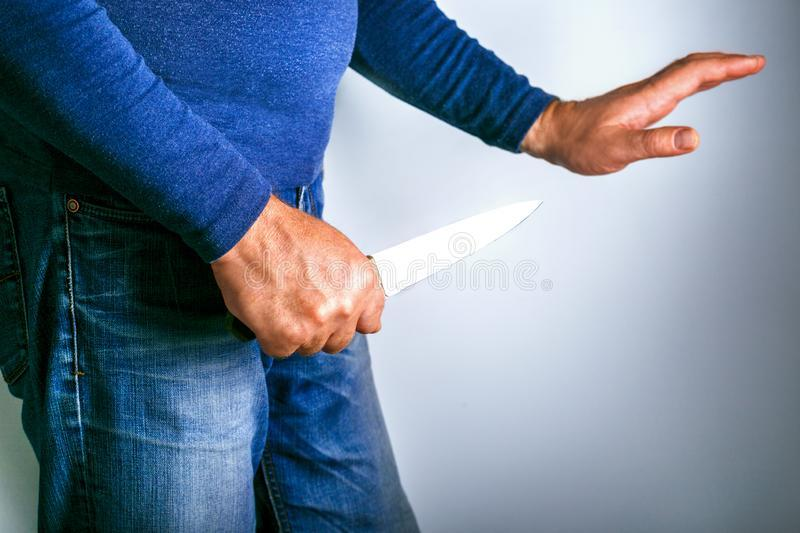weapon: (227, 195, 546, 345)
